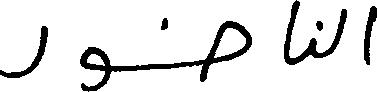X: (0, 21, 45, 82), (209, 16, 250, 70), (83, 42, 107, 91), (285, 0, 296, 69), (366, 1, 376, 69), (334, 4, 345, 54), (310, 33, 313, 61)
